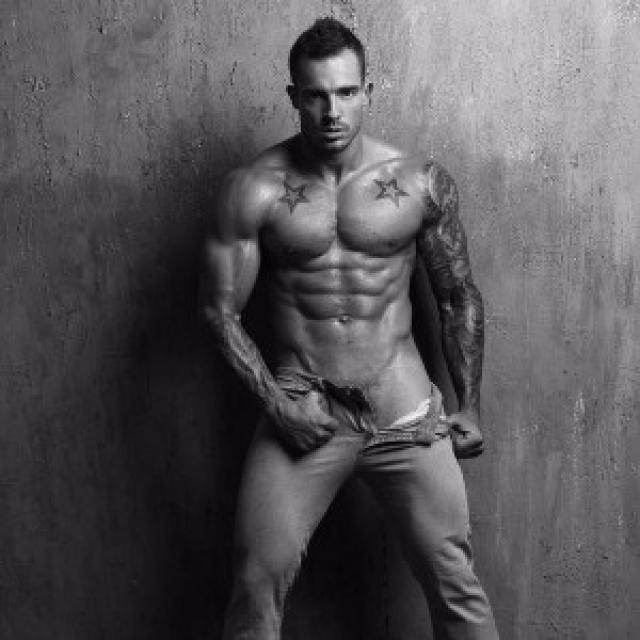human: (186, 14, 509, 640)
